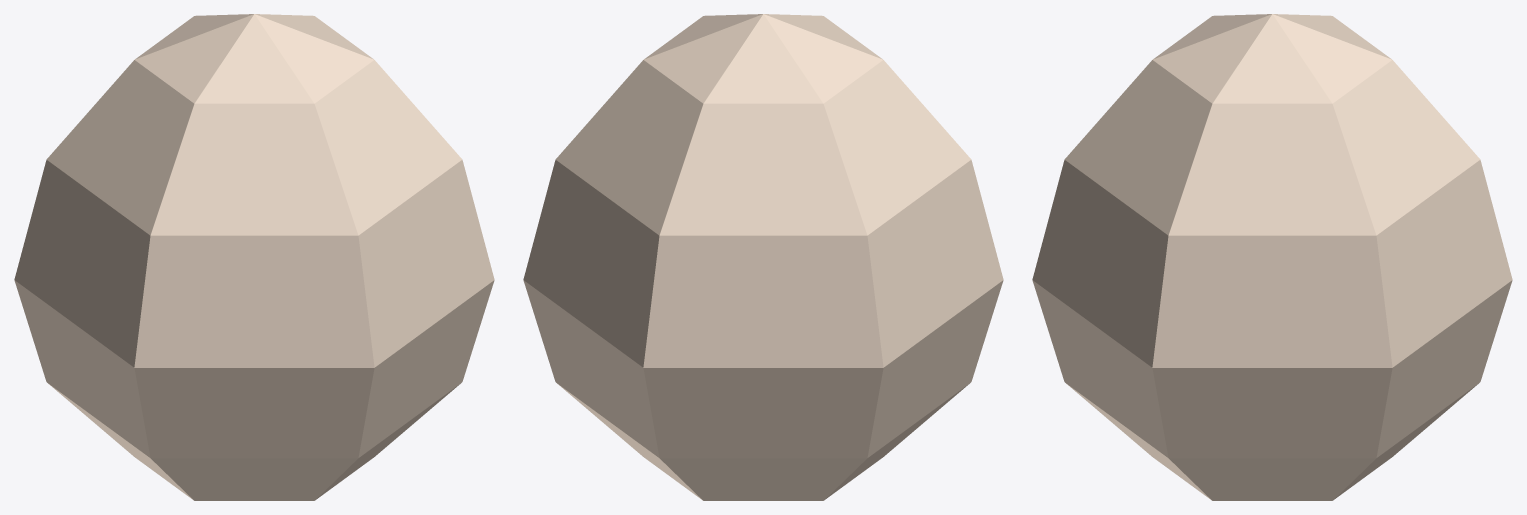
Rendered from egg.glb.
3 views of the same model, side by side, from view 1: azimuth 30°, elevation 25°; view 2: azimuth 150°, elevation 25°; view 3: azimuth 270°, elevation 25° (orthographic).
Parts seen in each view (by area): view 1: egg; view 2: egg; view 3: egg.
Boxes of the visible parts, <box> form: egg: <box>14,14,494,500</box>; egg: <box>523,14,1003,500</box>; egg: <box>1032,14,1512,500</box>.
Bounding box in the file's own units: 0.1299 × 0.1621 × 0.15.
1 material, 1 textured.
